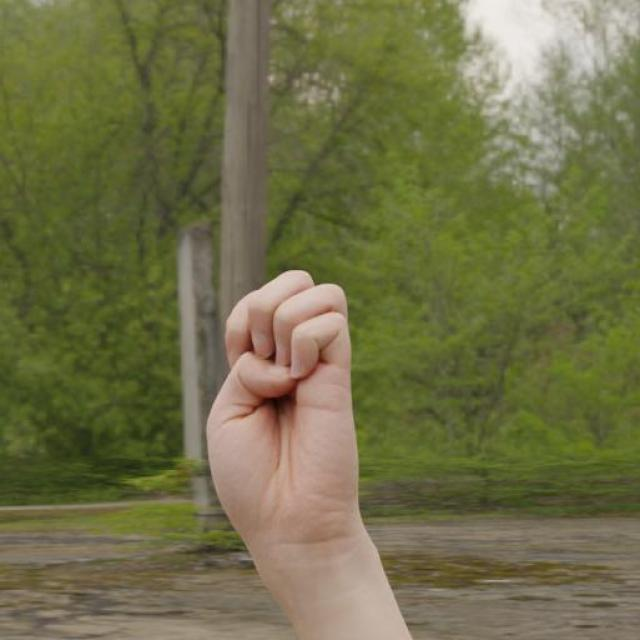E: (203, 267, 362, 552)
